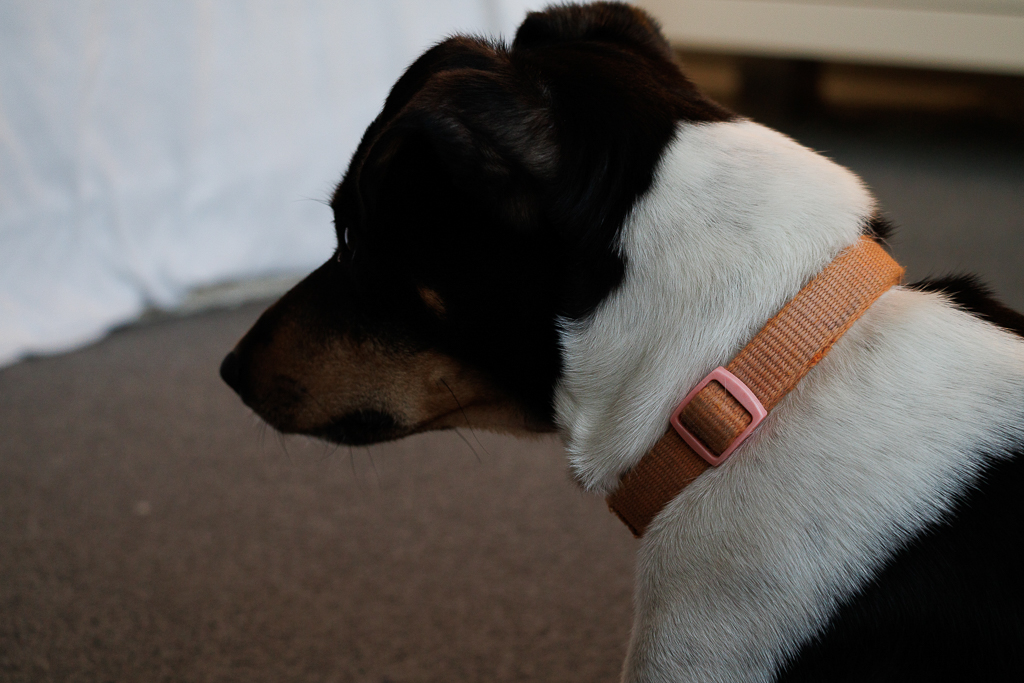Dog: (209, 0, 1024, 683)
